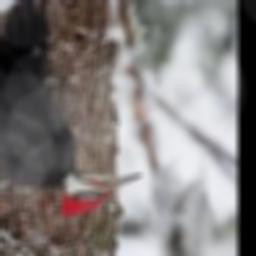Woodpecker: (0, 0, 141, 218)
